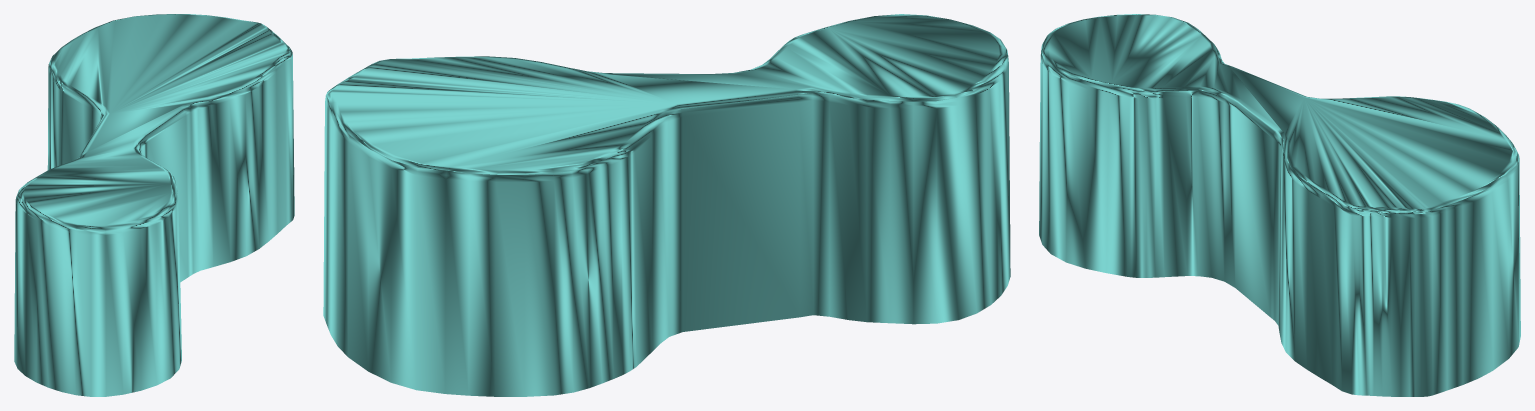
File: lorville_noflyzone_suburb_redout_19.glb
The picture shows the model from 3 angles, left to right: view 1: azimuth 30°, elevation 25°; view 2: azimuth 150°, elevation 25°; view 3: azimuth 270°, elevation 25°; orthographic projection. The views are drawn at different scales.
Bounding box in the file's own units: 3684 × 1590 × 3743.
